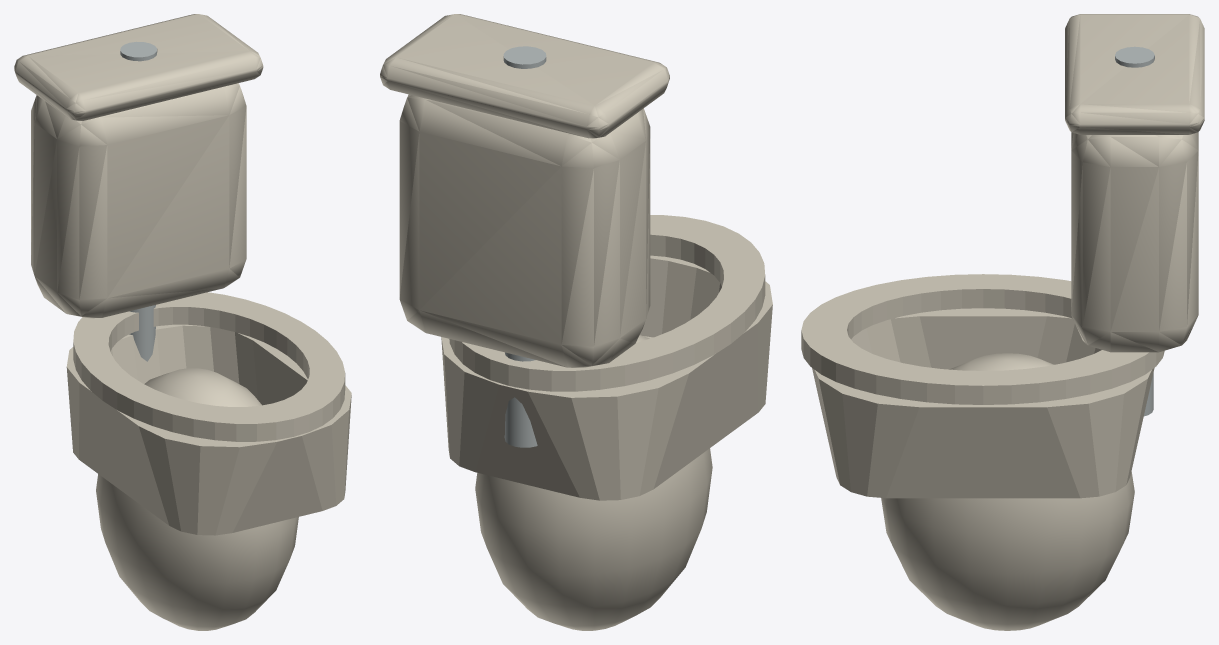
The model's file is 13_starter_toilet.glb.
3 views of the same model, side by side, from view 1: azimuth 30°, elevation 25°; view 2: azimuth 150°, elevation 25°; view 3: azimuth 270°, elevation 25° (orthographic). The views are drawn at different scales.
Visible parts, largest first — view 1: 13_starter_toilet__Static; view 2: 13_starter_toilet__Static; view 3: 13_starter_toilet__Static.
Boxes of the visible parts, x1=… form: 13_starter_toilet__Static: x1=14, y1=14, x2=351, y2=630; 13_starter_toilet__Static: x1=380, y1=14, x2=772, y2=630; 13_starter_toilet__Static: x1=801, y1=14, x2=1204, y2=630.
Size of the model in its own units: 0.436 by 1.03 by 0.665.
